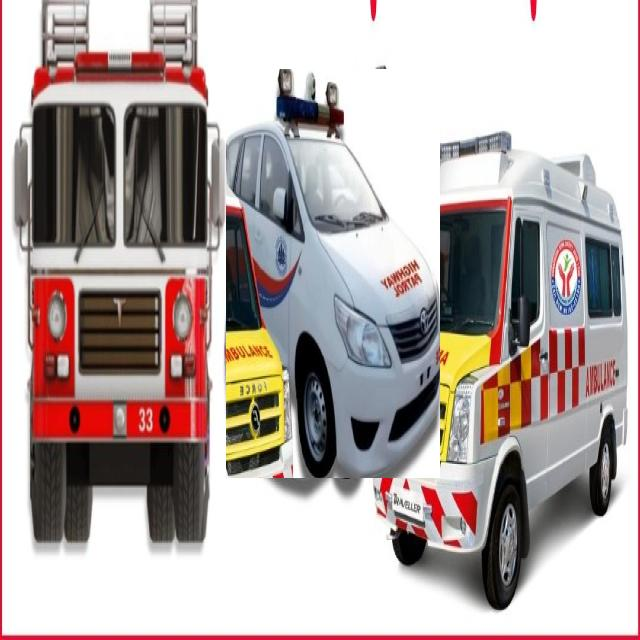car: (226, 70, 440, 478)
emergency: (372, 132, 628, 610), (14, 0, 225, 541)
